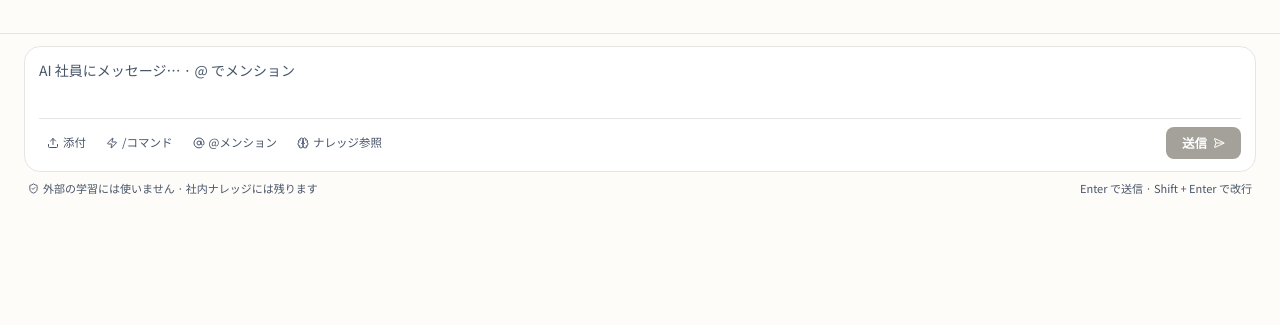
Test case: S-E01 ChatContainer (T-UC-08) › shows error and drops empty placeholder when the stream throws
Type "test" into the text box named "メッセージを入力" at (640, 82), box [39,59,1241,104]
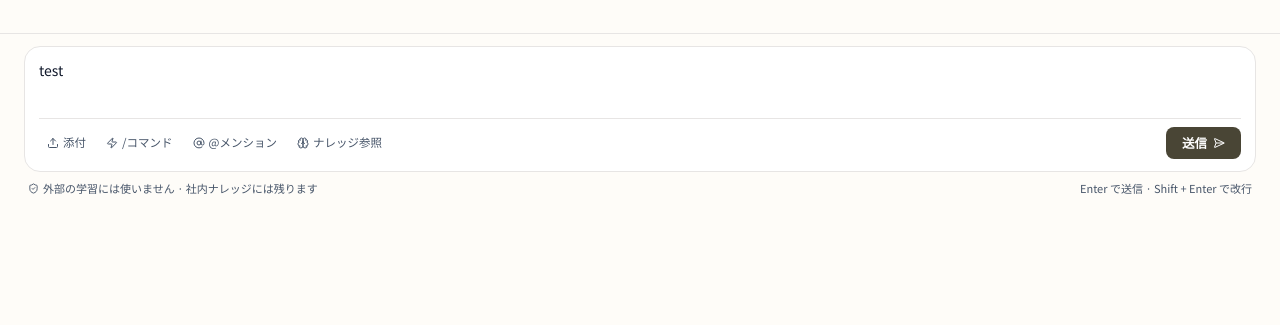
Click the button "送信" at (1204, 143), box [1166,126,1241,159]
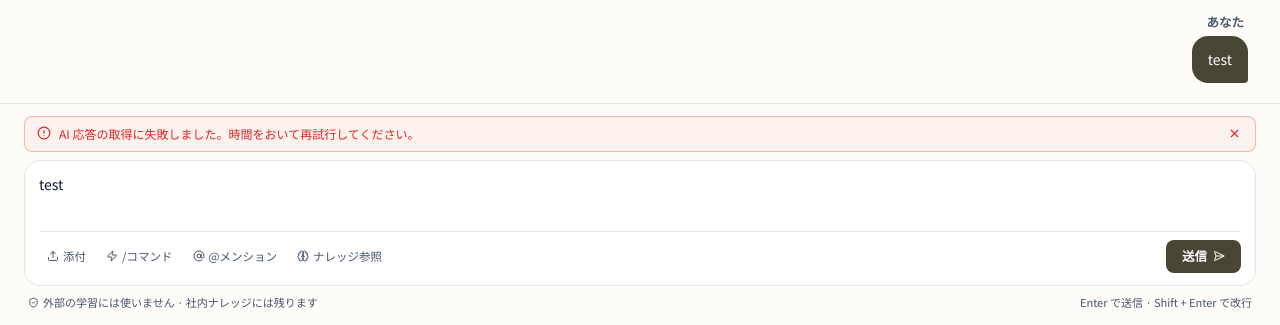
Expected: the text "AI 社員" is not shown
Expected: the message shows "AI 応答の取得に失敗", [59,124,419,142]
